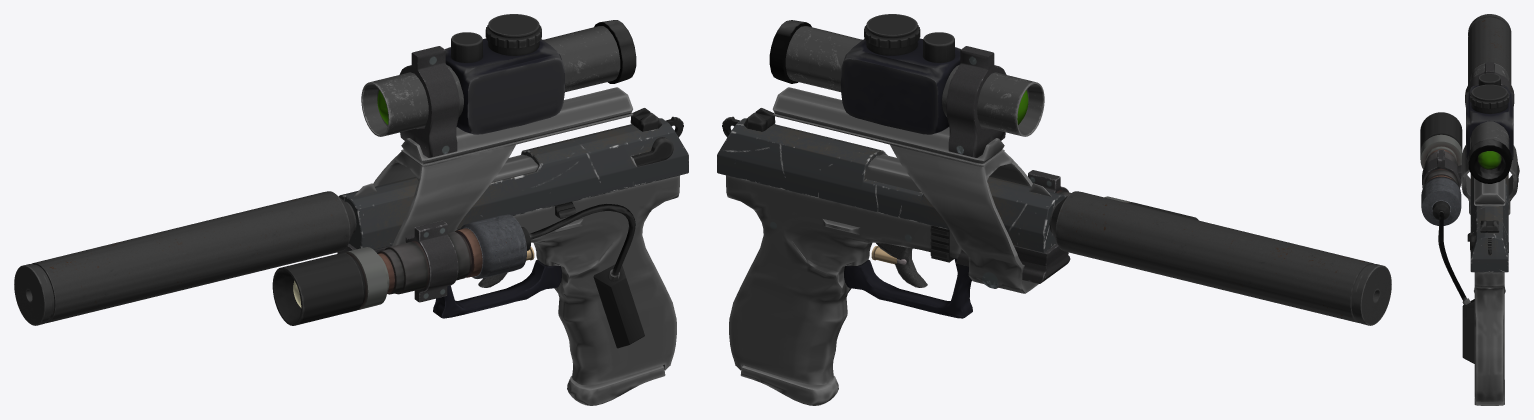
File: HandGun.fbx
3 renders of one model, left to right at view 1: azimuth 30°, elevation 25°; view 2: azimuth 150°, elevation 25°; view 3: azimuth 270°, elevation 25°, orthographic. The views are drawn at different scales.
Parts seen in each view (by area): view 1: HandGun, Scope, Silencer, Lamp, Magazine; view 2: HandGun, Scope, Silencer, Magazine, Lamp; view 3: HandGun, Lamp, Scope, Silencer, Magazine.
Part boxes in pixels (x1,y1,x2,y2): HandGun: (337, 87, 688, 384); Scope: (361, 14, 636, 157); Silencer: (14, 191, 356, 325); Lamp: (272, 204, 644, 348); Magazine: (567, 365, 665, 405); HandGun: (717, 87, 1070, 384); Scope: (769, 14, 1044, 157); Silencer: (1049, 191, 1391, 325); Magazine: (740, 365, 838, 405); Lamp: (1028, 170, 1198, 220); HandGun: (1461, 145, 1519, 401); Lamp: (1420, 112, 1474, 363); Scope: (1465, 62, 1514, 183); Silencer: (1468, 14, 1511, 84); Magazine: (1474, 380, 1504, 405).
Size of the model in its own units: 0.5107 by 0.2936 by 0.096.
